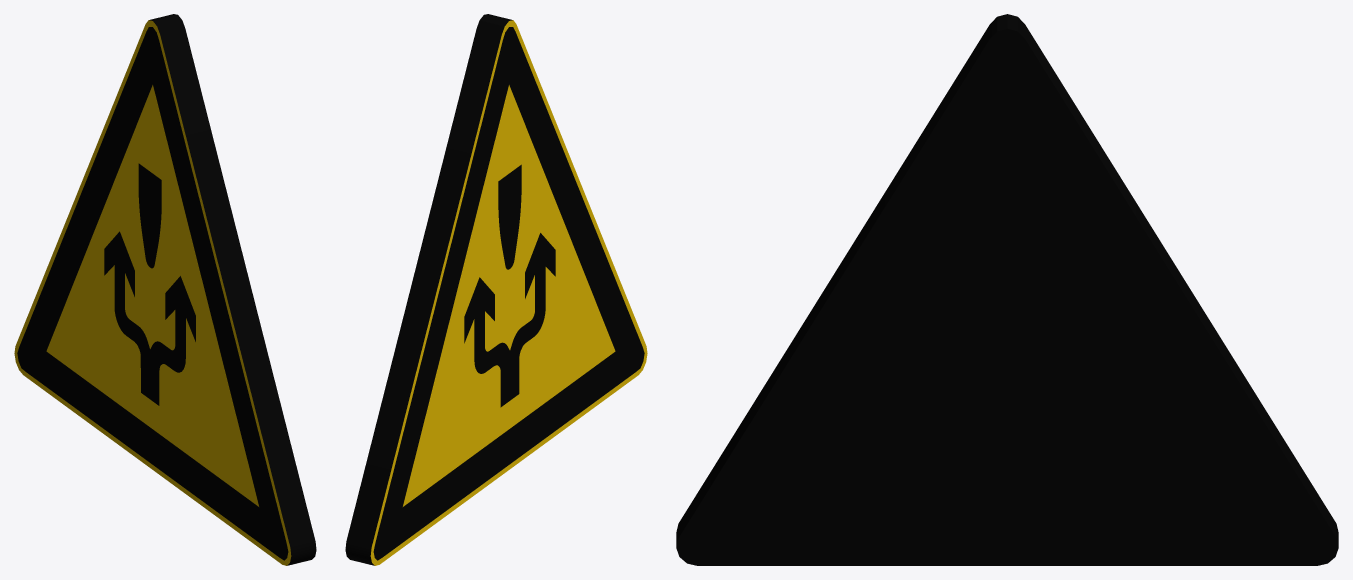
File: Detour_On_The_LeftAndRight.fbx
The picture shows the model from 3 angles, left to right: view 1: azimuth 30°, elevation 25°; view 2: azimuth 150°, elevation 25°; view 3: azimuth 270°, elevation 25°; orthographic projection. The views are drawn at different scales.
Parts seen in each view (by area): view 1: Detour_On_The_LeftAndRight; view 2: Detour_On_The_LeftAndRight; view 3: Detour_On_The_LeftAndRight.
Part boxes in pixels (box(x1,y1,x2,y2)): Detour_On_The_LeftAndRight: box(14, 14, 316, 565); Detour_On_The_LeftAndRight: box(345, 14, 647, 565); Detour_On_The_LeftAndRight: box(676, 14, 1338, 565).
Size of the model in its own units: 0.0643 by 1.02 by 1.14.
